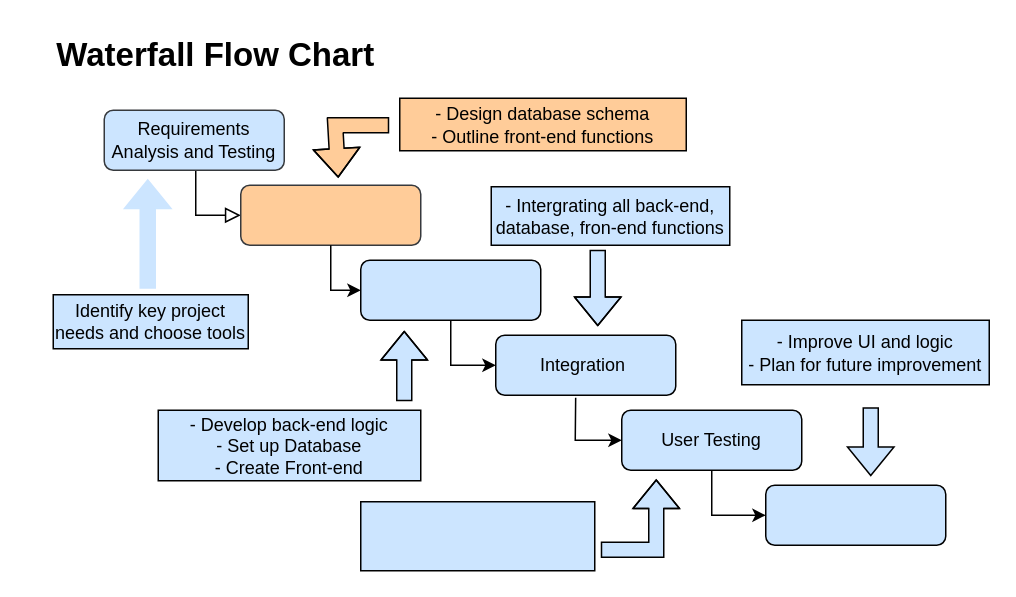
This 1016x597 diagram has some shape labels left out. The shapes that lost their labels are listed below. From the top down, each one's centre as x and y in pixels, then its label:
At (x=330, y=214): "System Design".
At (x=450, y=289): "Implementation".
At (x=855, y=514): "Refinement".
At (x=477, y=535): "- Design questionnaire - Conduct User Testings".
